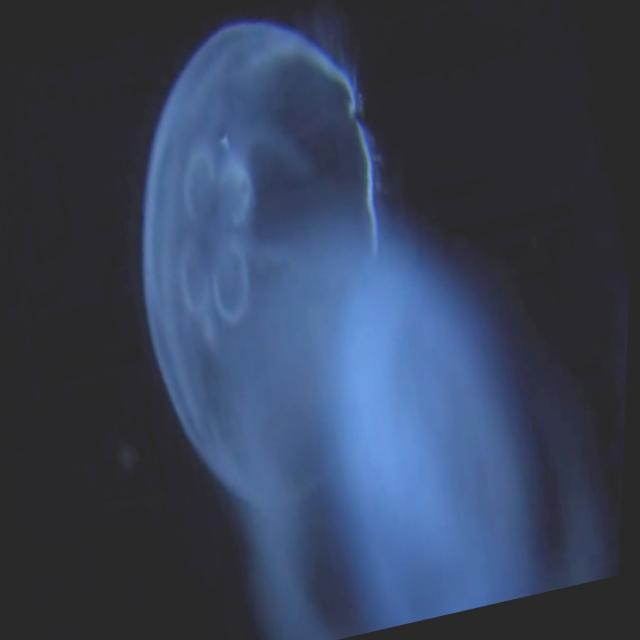Moon-jellyfish: (145, 25, 378, 640)
